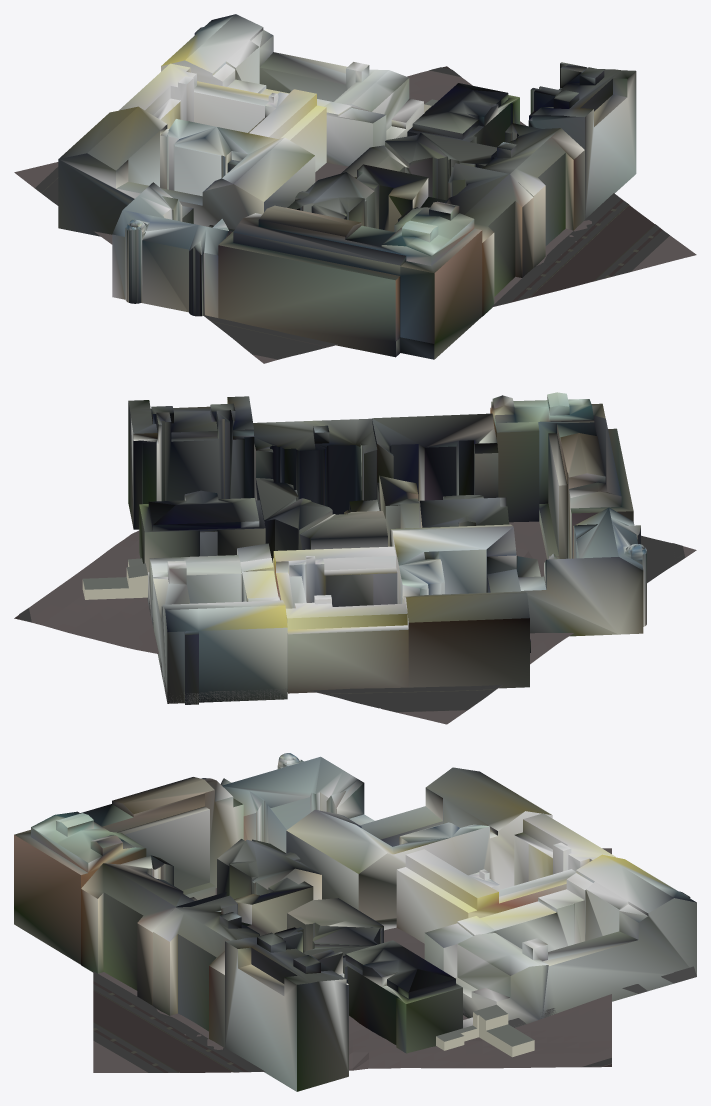
3 views of the same model, one above another, from view 1: azimuth 30°, elevation 25°; view 2: azimuth 150°, elevation 25°; view 3: azimuth 270°, elevation 25° (orthographic). The views are drawn at different scales.
Visible parts, largest first — view 1: c_m08_p04; view 2: c_m08_p04; view 3: c_m08_p04.
Boxes of the visible parts, left/top/right/bottom form: c_m08_p04: left=14, top=14, right=696, bottom=363; c_m08_p04: left=14, top=392, right=696, bottom=724; c_m08_p04: left=14, top=753, right=696, bottom=1091.
Bounding box in the file's own units: 154 × 33.31 × 168.
